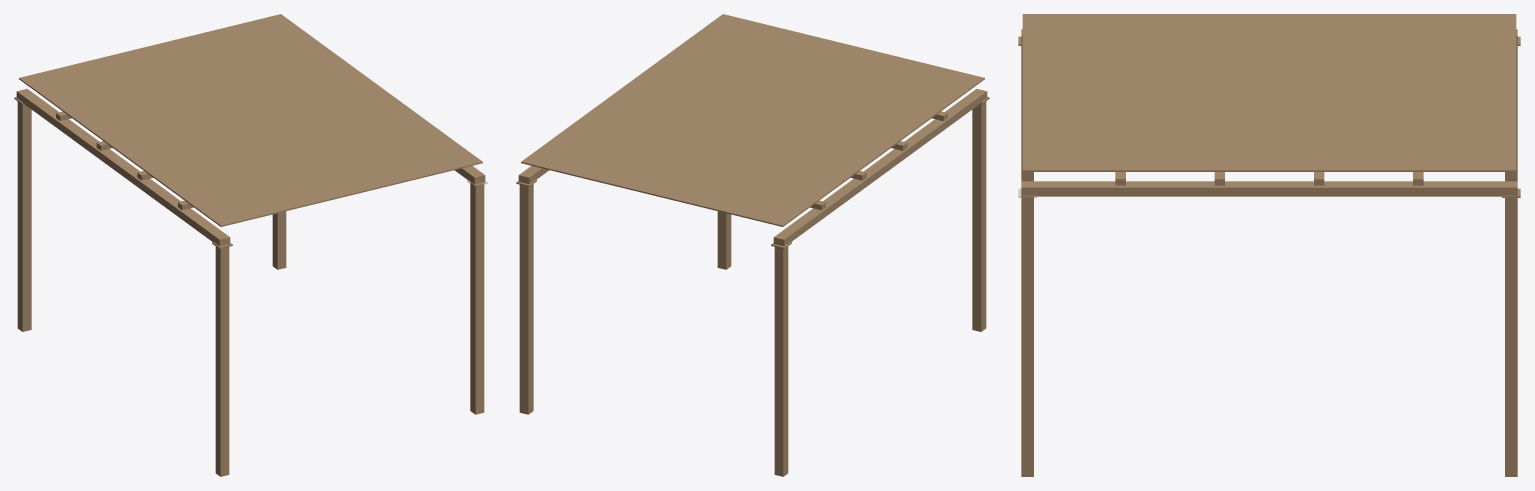
3 renders of one model, left to right at view 1: azimuth 30°, elevation 25°; view 2: azimuth 150°, elevation 25°; view 3: azimuth 270°, elevation 25°, orthographic. The views are drawn at different scales.
Parts seen in each view (by area): view 1: part_31, part_4, part_3, part_2, part_0, part_1; view 2: part_31, part_4, part_1, part_0, part_2, part_3; view 3: part_31, part_5, part_3, part_1.
Boxes of the visible parts, <box> form: part_31: <box>19,14,482,226</box>; part_4: <box>16,89,230,246</box>; part_3: <box>470,182,484,414</box>; part_2: <box>215,246,229,476</box>; part_0: <box>17,101,31,331</box>; part_1: <box>272,211,286,269</box>; part_31: <box>521,14,984,226</box>; part_4: <box>773,89,987,246</box>; part_1: <box>519,184,533,414</box>; part_0: <box>774,246,788,476</box>; part_2: <box>972,101,986,331</box>; part_3: <box>717,211,731,269</box>; part_31: <box>1022,14,1516,171</box>; part_5: <box>1021,181,1517,196</box>; part_3: <box>1021,196,1033,476</box>; part_1: <box>1505,198,1517,476</box>.
Size of the model in its own units: 3.05 by 2.72 by 4.05.
